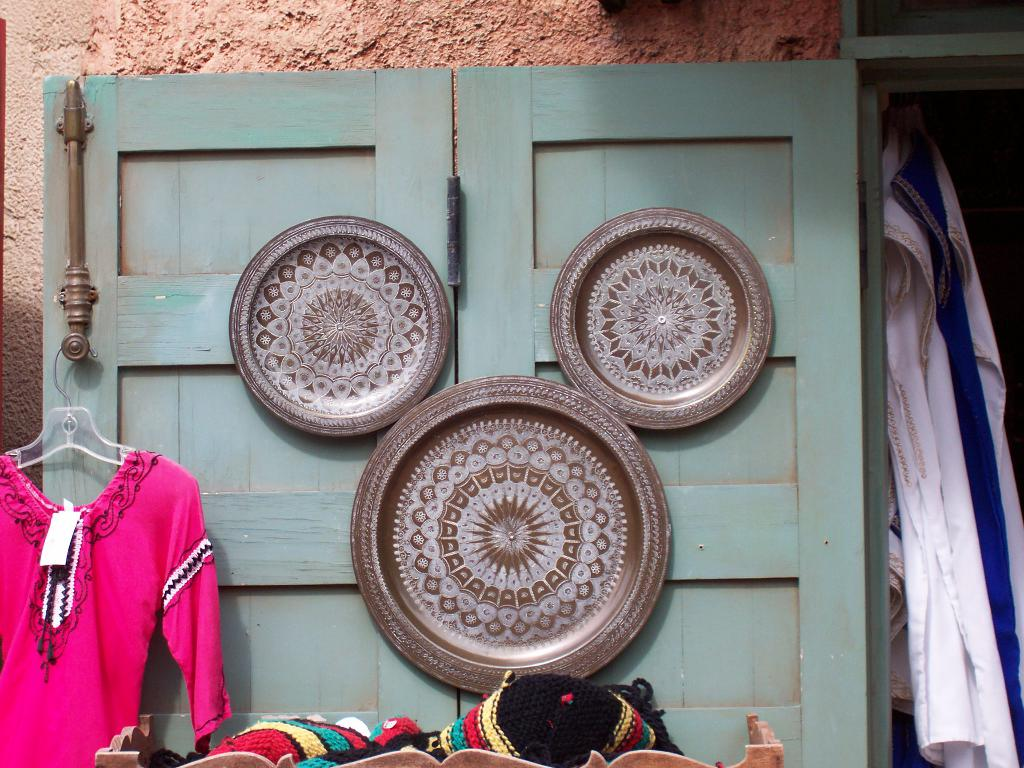plate: (226, 216, 455, 443)
